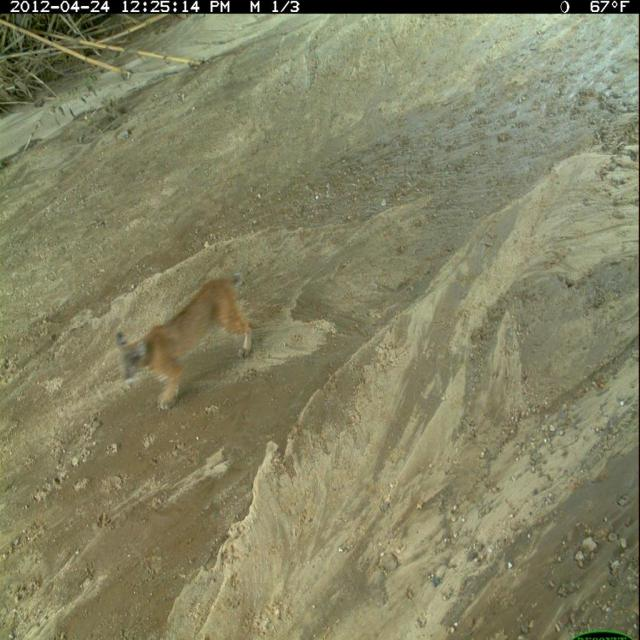bobcat: (114, 270, 255, 421)
